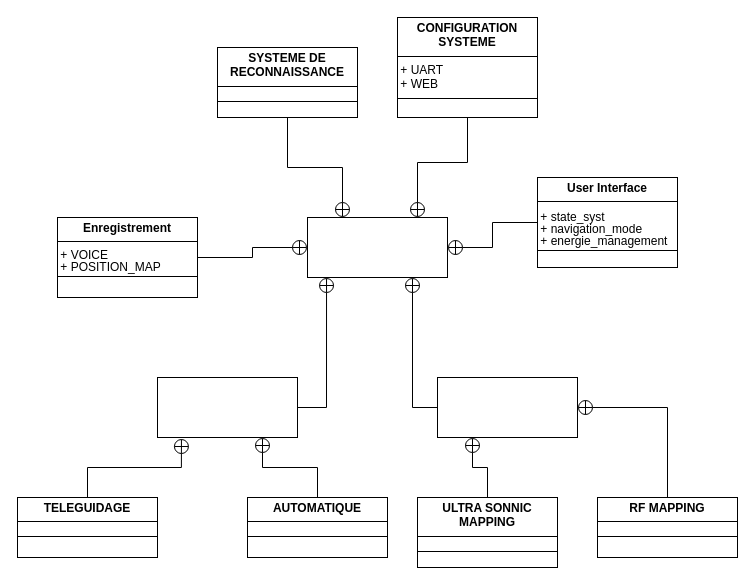
The diagram is 755 pixels wide and 585 high, and some of its shapes have lost their labels. The shapes that lost their labels are listed below. From the top down, each one's centre as x and y in pixels, then its label:
[377,247]: SYSTEME
[227,407]: Mouvement
[507,407]: MAPPING
